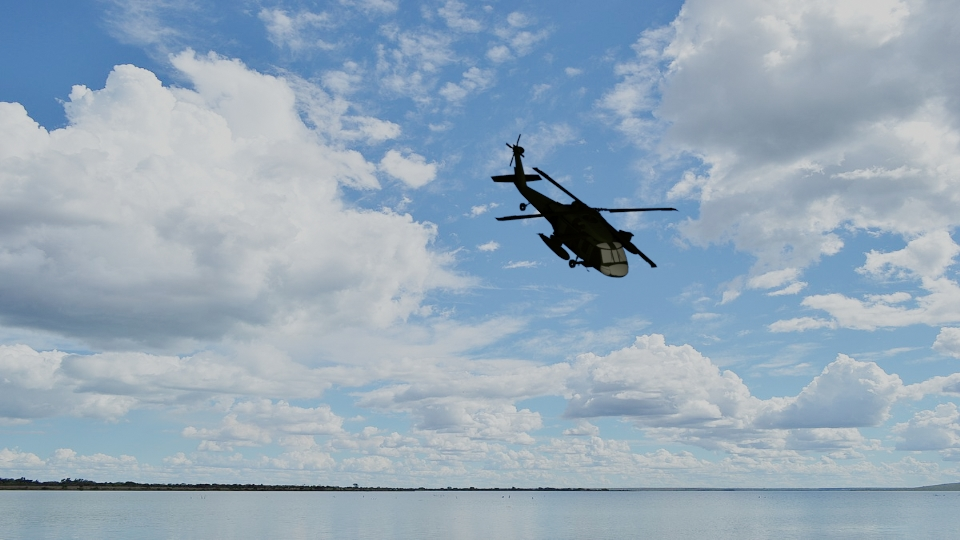heli: (492, 132, 686, 278)
